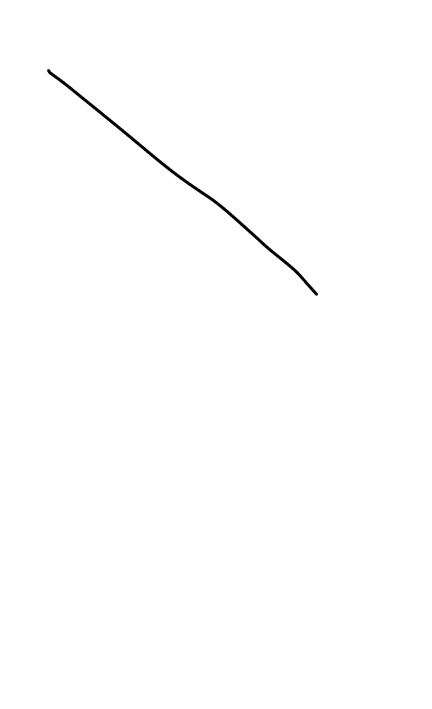Line: (39, 61, 328, 301)
